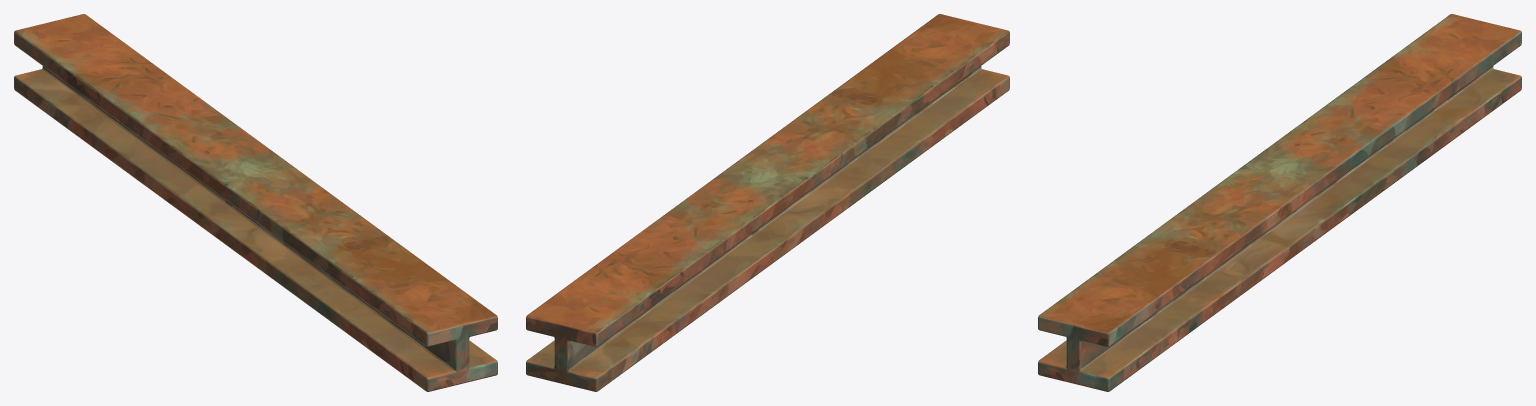
Rendered from beam_01.gltf.
3 views of the same model, side by side, from view 1: azimuth 30°, elevation 25°; view 2: azimuth 150°, elevation 25°; view 3: azimuth 330°, elevation 25° (orthographic).
Visible parts, largest first — view 1: Beam01; view 2: Beam01; view 3: Beam01.
Boxes of the visible parts, box(x1,y1,x2,y2) form: Beam01: box(14, 14, 497, 391); Beam01: box(526, 14, 1009, 391); Beam01: box(1038, 14, 1521, 391).
Bounding box in the file's own units: 1 × 0.8 × 10.
1 material, 1 textured.
